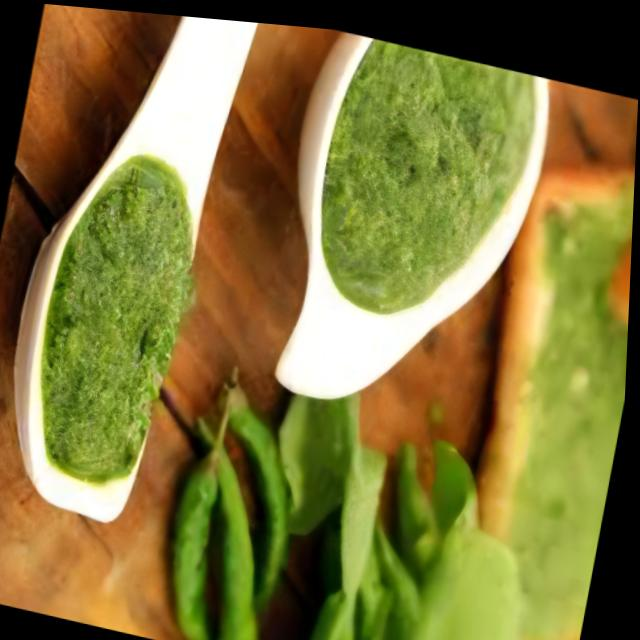GREEN CHUTNEY: (323, 41, 533, 313), (42, 157, 195, 482)
